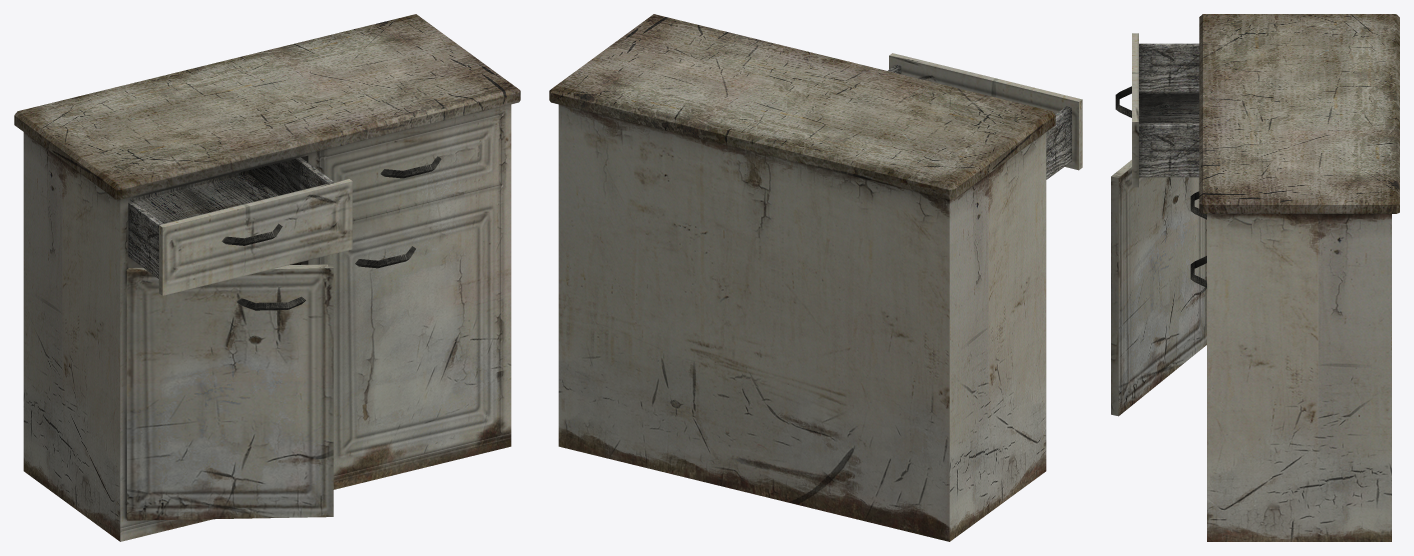
The model's file is KithenTable.FBX.
3 renders of one model, left to right at view 1: azimuth 30°, elevation 25°; view 2: azimuth 150°, elevation 25°; view 3: azimuth 270°, elevation 25°, orthographic. The views are drawn at different scales.
Parts seen in each view (by area): view 1: Box002; view 2: Box002; view 3: Box002.
Part boxes in pixels (x1,y1,x2,y2): Box002: [14, 14, 520, 541]; Box002: [549, 14, 1082, 541]; Box002: [1111, 14, 1399, 541].
Size of the model in its own units: 48.73 by 41.3 by 31.45.
